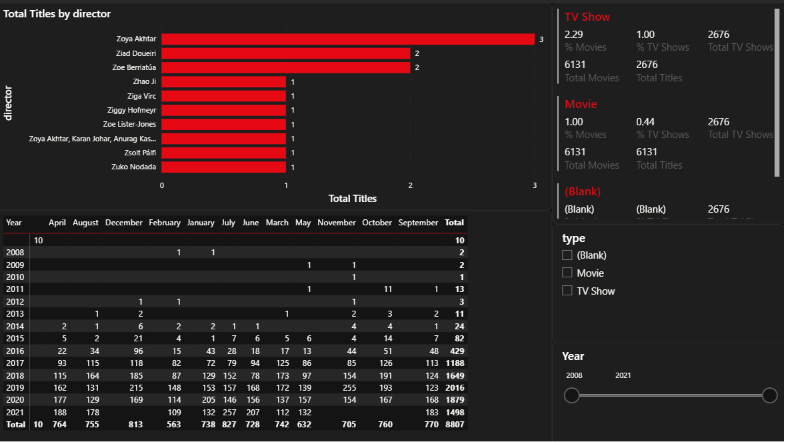

Layout of this report page (visuals, bound fields, positions):
{"tool":"powerbi","page":{"name":"Page 5","canvas":[1280,720],"ordinal":4},"visuals":[{"type":"pivotTable","fields":{"Rows":["Dim_Date.Year"],"Columns":["Dim_Date.MonthName"],"Values":["Fact_Titles.Titles Added (Period)"]},"box":[0,336.7,901.1,383.9],"z":0},{"type":"clusteredBarChart","fields":{"Category":["Fact_Titles.director"],"Y":["Fact_Titles.Total Titles"]},"box":[0,0,901.1,336.7],"z":1},{"type":"slicer","fields":{"Values":["Fact_Titles.type"]},"box":[901.1,359.5,379,193.6],"z":2},{"type":"slicer","fields":{"Values":["Dim_Date.Year"]},"box":[901.1,551.4,379,169.2],"z":3},{"type":"multiRowCard","fields":{"Values":["Fact_Titles.% Movies","Fact_Titles.% TV Shows","Fact_Titles.Total TV Shows","Fact_Titles.Total Movies","Fact_Titles.Total Titles","Fact_Titles.type"]},"box":[901.1,0,379,359.5],"z":4}]}

Visuals, with their boxes in screenshot pixels (x1, y1, x2, y2), scaled from the page's 1280x720 canvas onto the 785x442 screenshot:
pivotTable - Dim_Date.Year x Dim_Date.MonthName: pyautogui.locateOnScreen(0, 207, 553, 441)
clusteredBarChart - Fact_Titles.director x Fact_Titles.Total Titles: pyautogui.locateOnScreen(0, 0, 553, 207)
slicer - Fact_Titles.type: pyautogui.locateOnScreen(553, 221, 784, 340)
slicer - Dim_Date.Year: pyautogui.locateOnScreen(553, 338, 784, 441)
multiRowCard - Fact_Titles.% Movies x Fact_Titles.% TV Shows: pyautogui.locateOnScreen(553, 0, 784, 221)
